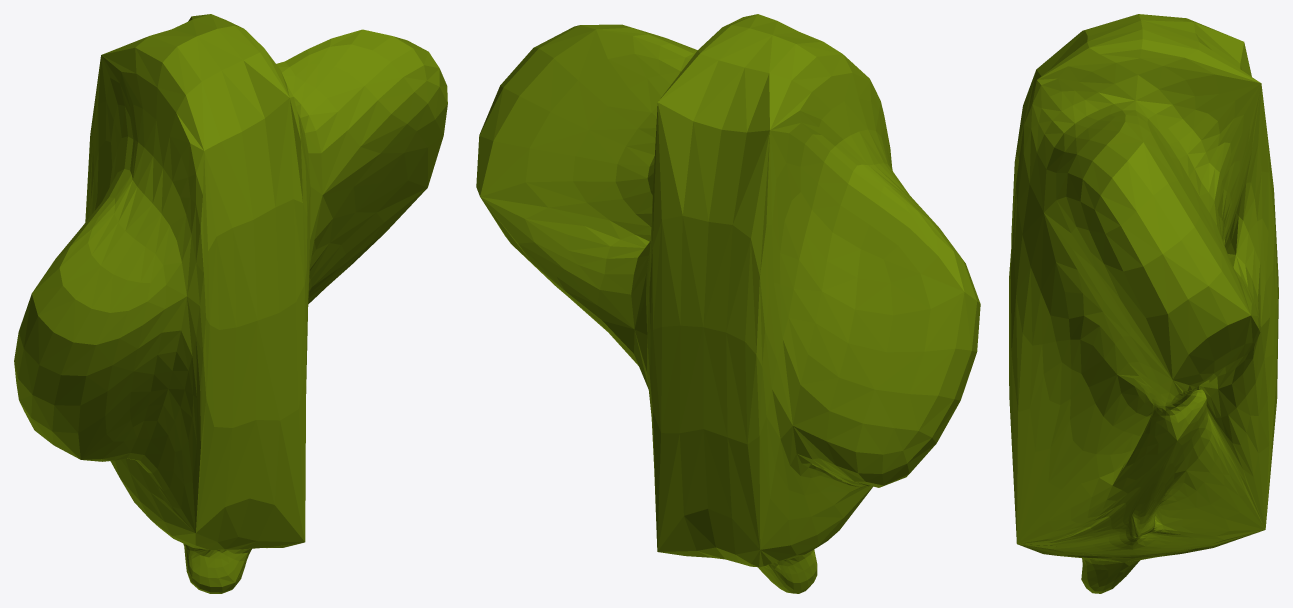
The picture shows the model from 3 angles, left to right: view 1: azimuth 30°, elevation 25°; view 2: azimuth 150°, elevation 25°; view 3: azimuth 270°, elevation 25°; orthographic projection. The views are drawn at different scales.
Visible parts, largest first — view 1: 282_Cube.1154; view 2: 282_Cube.1154; view 3: 282_Cube.1154.
Part boxes in pixels (x1,y1,x2,y2): 282_Cube.1154: (14, 14, 447, 593); 282_Cube.1154: (476, 14, 980, 593); 282_Cube.1154: (1009, 14, 1278, 593).
Bounding box in the file's own units: 11.03 × 13.03 × 5.57.
